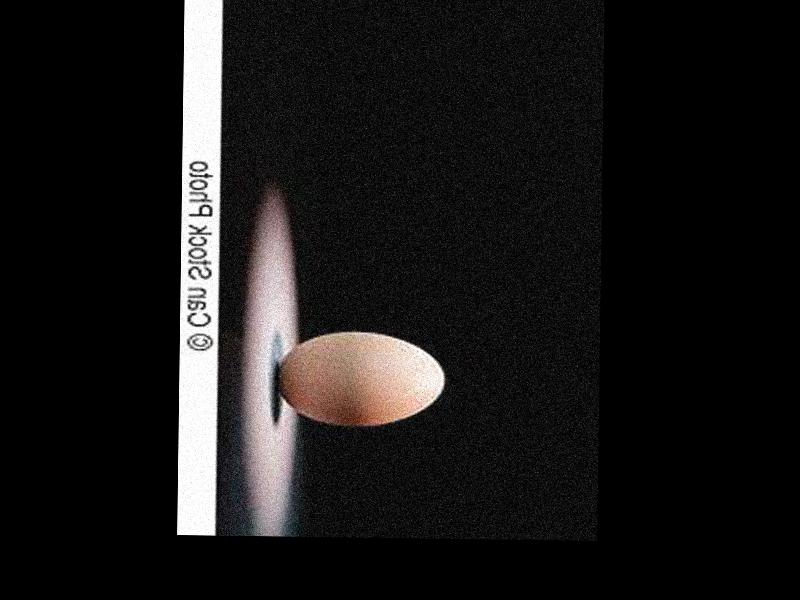Eggs: (275, 330, 444, 430)
